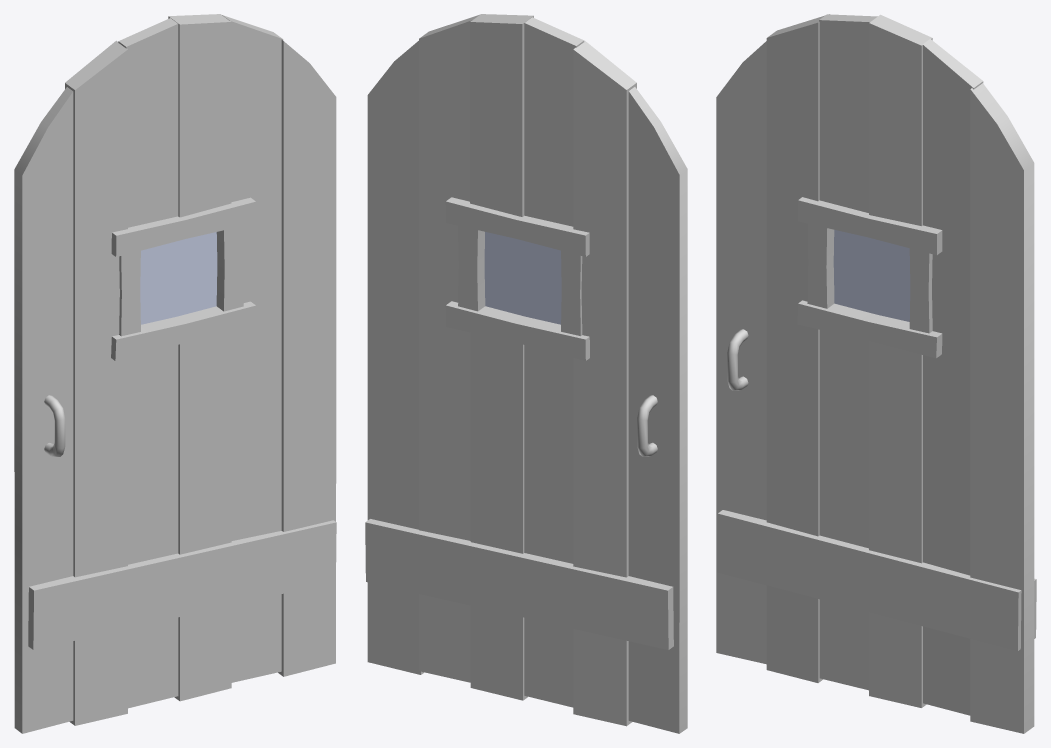
Rendered from Door_2.fbx.
3 views of the same model, side by side, from view 1: azimuth 30°, elevation 25°; view 2: azimuth 150°, elevation 25°; view 3: azimuth 330°, elevation 25° (orthographic).
Visible parts, largest first — view 1: Door_2_LOD0; view 2: Door_2_LOD0; view 3: Door_2_LOD0.
Boxes of the visible parts, x1,y1,x2,y2 form: Door_2_LOD0: (14, 14, 336, 733); Door_2_LOD0: (365, 14, 687, 733); Door_2_LOD0: (716, 14, 1036, 733).
Size of what is drawn, in the model's own units: 119 by 248 by 22.6.
